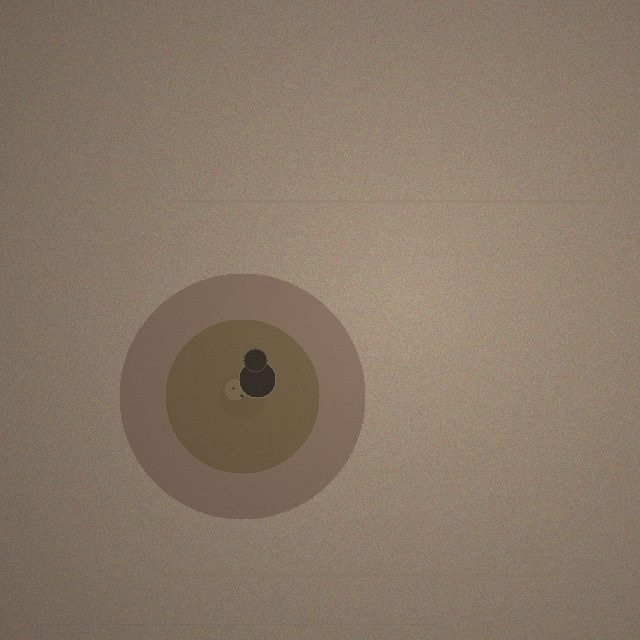shrinkage: (119, 273, 365, 519)
